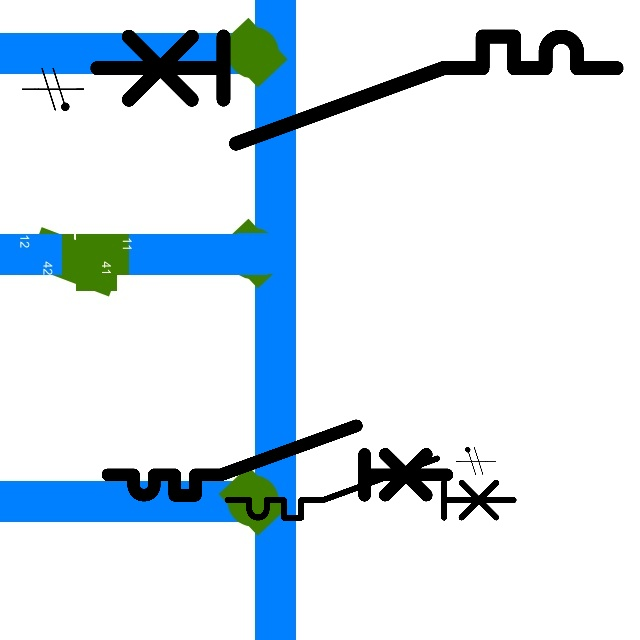interruptor_termomagnetico: (83, 23, 630, 157), (99, 417, 456, 504), (220, 451, 521, 525)
